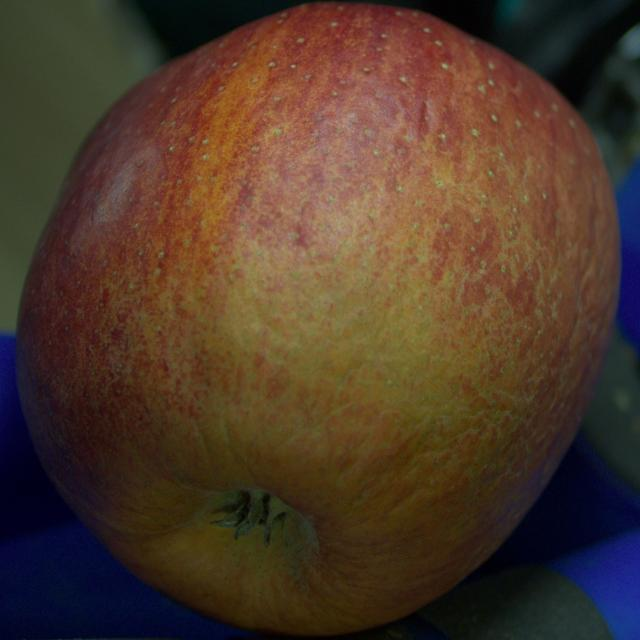apple: (15, 2, 619, 635)
